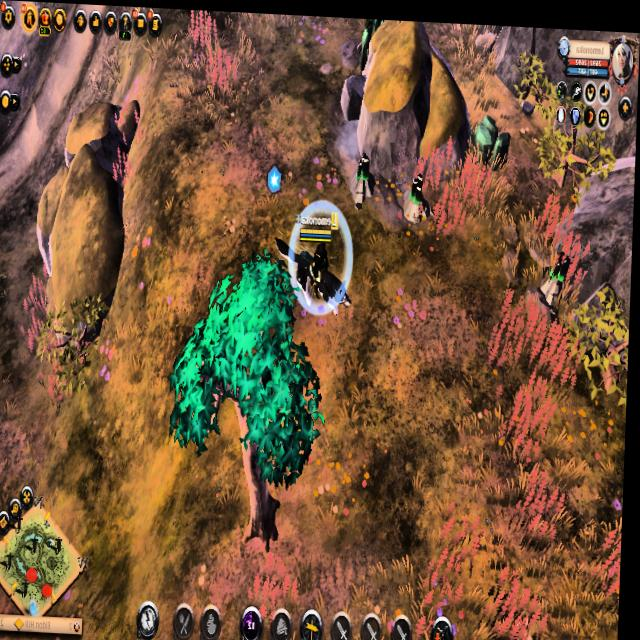ore tier 3: (541, 241, 576, 303), (401, 164, 435, 225), (350, 148, 378, 205)
rock tier 3: (462, 107, 514, 167)
wood tier 3: (173, 254, 330, 489)
